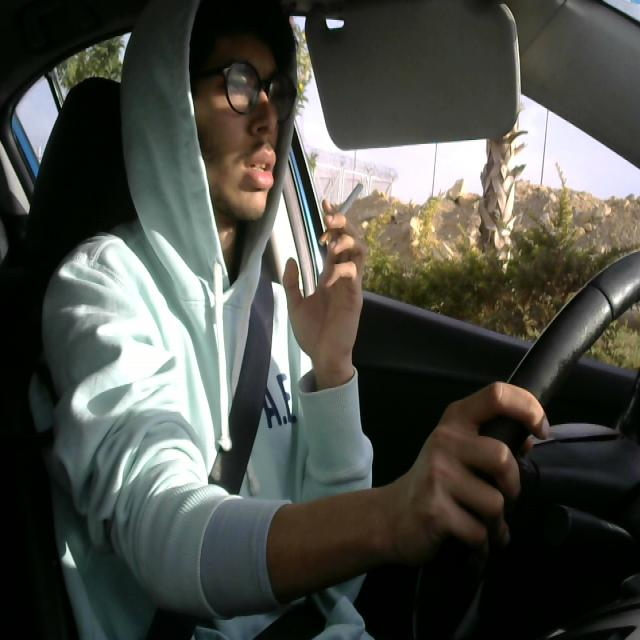smoking: (317, 174, 367, 258)
